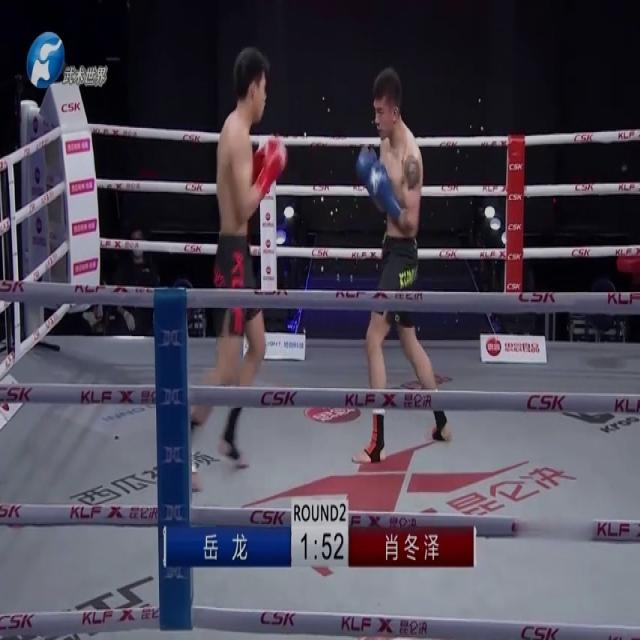fight: (202, 48, 448, 477)
